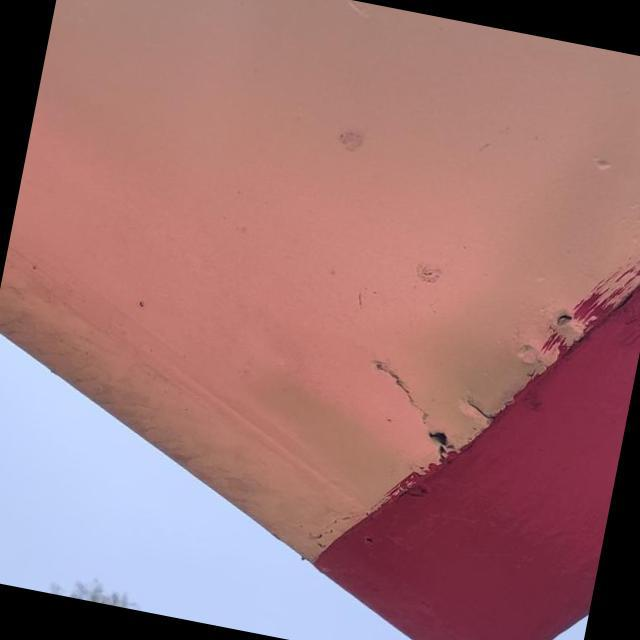Rupture: (348, 349, 483, 474), (458, 392, 504, 432)
